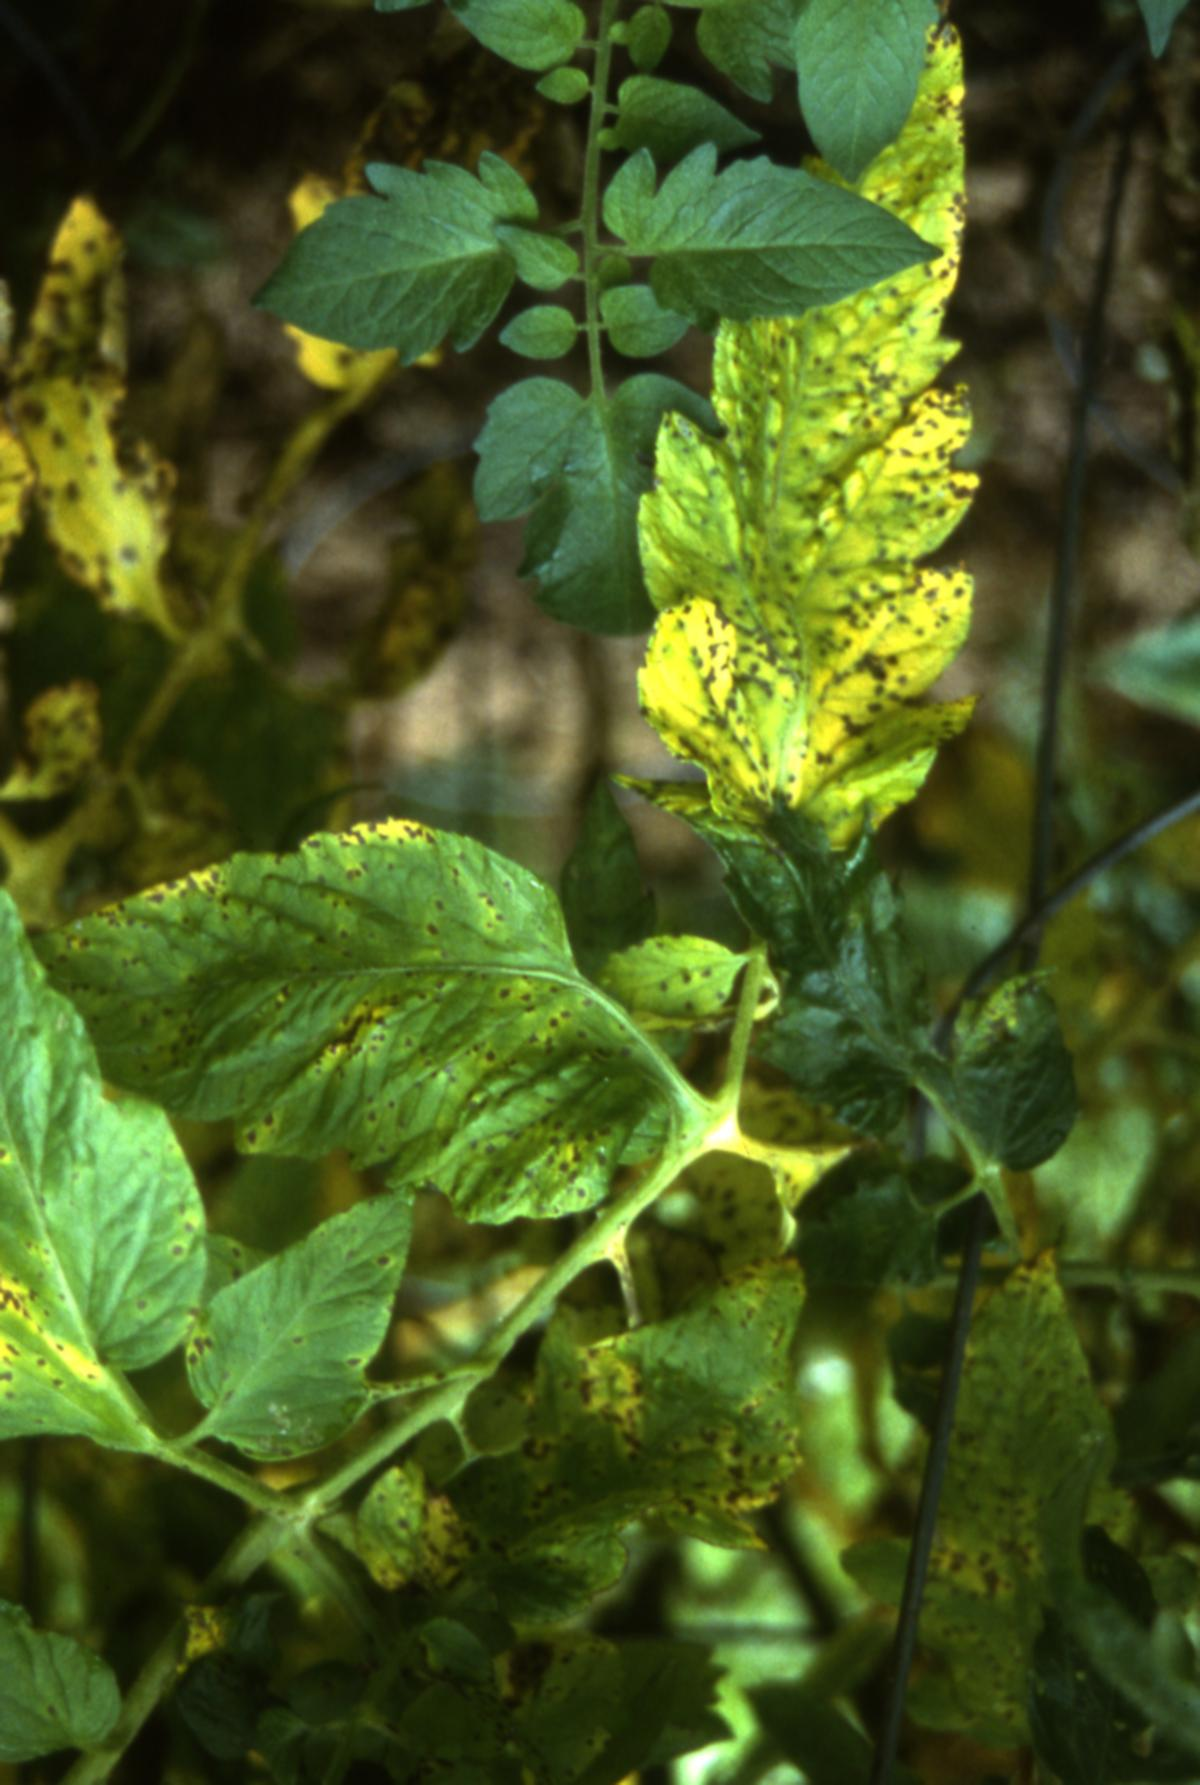Tomato Septoria leaf spot: (40, 783, 754, 1265), (621, 35, 986, 951), (154, 1166, 458, 1519)
